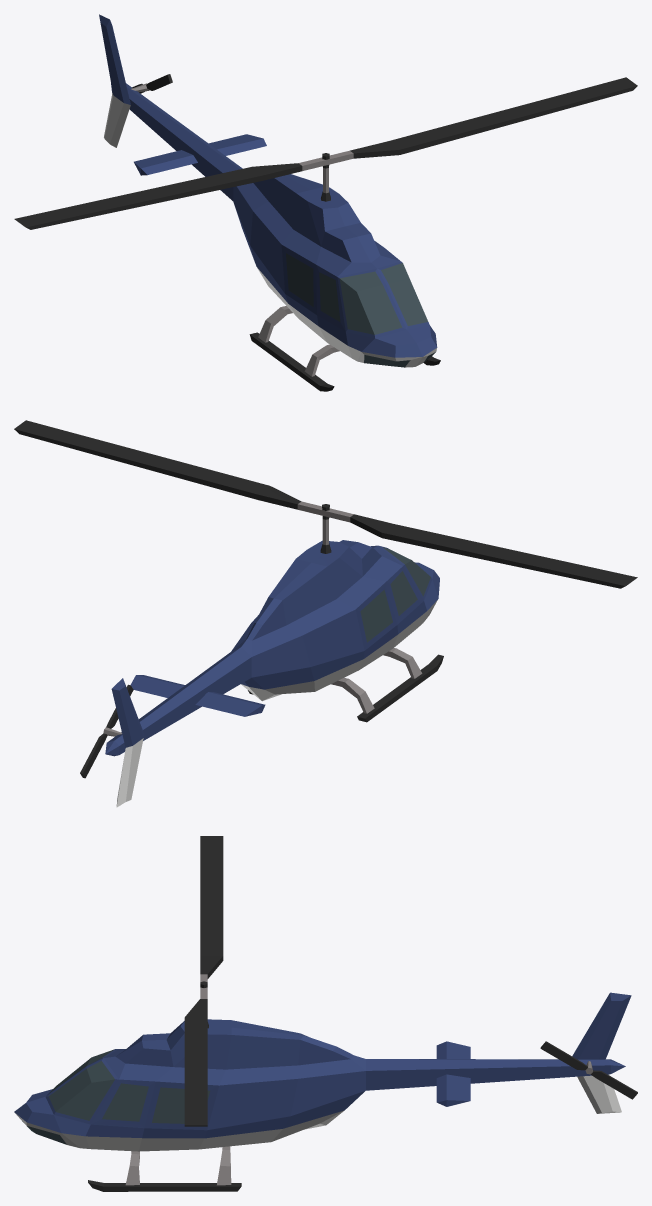
Rendered from vehicles_helicopter.fbx.
3 renders of one model, top to bottom at view 1: azimuth 30°, elevation 25°; view 2: azimuth 150°, elevation 25°; view 3: azimuth 270°, elevation 25°, orthographic. The views are drawn at different scales.
Visible parts, largest first — view 1: helicopter_base, helicopter_propeller_main; view 2: helicopter_base, helicopter_propeller_main, helicopter_propeller_small; view 3: helicopter_base, helicopter_propeller_main, helicopter_propeller_small.
Boxes of the visible parts, x1,y1,x2,y2 form: helicopter_base: (99,14,440,391); helicopter_propeller_main: (14,77,637,229); helicopter_base: (105,540,443,807); helicopter_propeller_main: (14,420,637,588); helicopter_propeller_small: (80,684,133,778); helicopter_base: (14,992,631,1191); helicopter_propeller_main: (184,836,223,1126); helicopter_propeller_small: (540,1041,637,1099).
Bounding box in the file's own units: 200 × 59.2 × 182.
